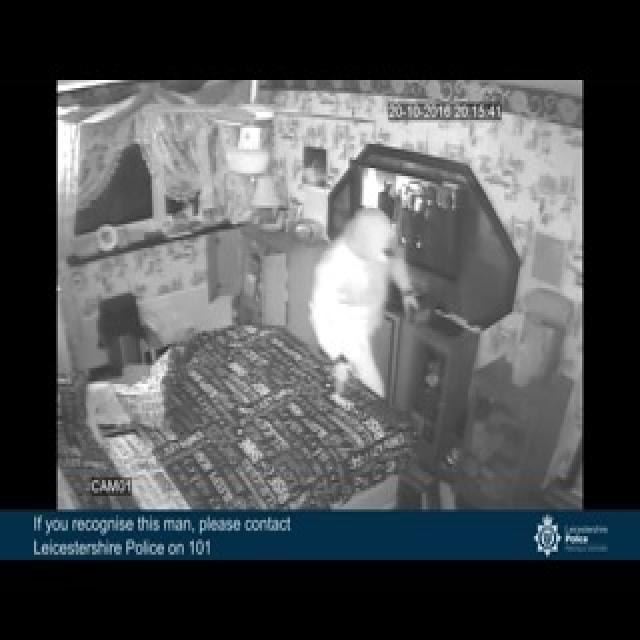thief: (313, 201, 415, 395)
